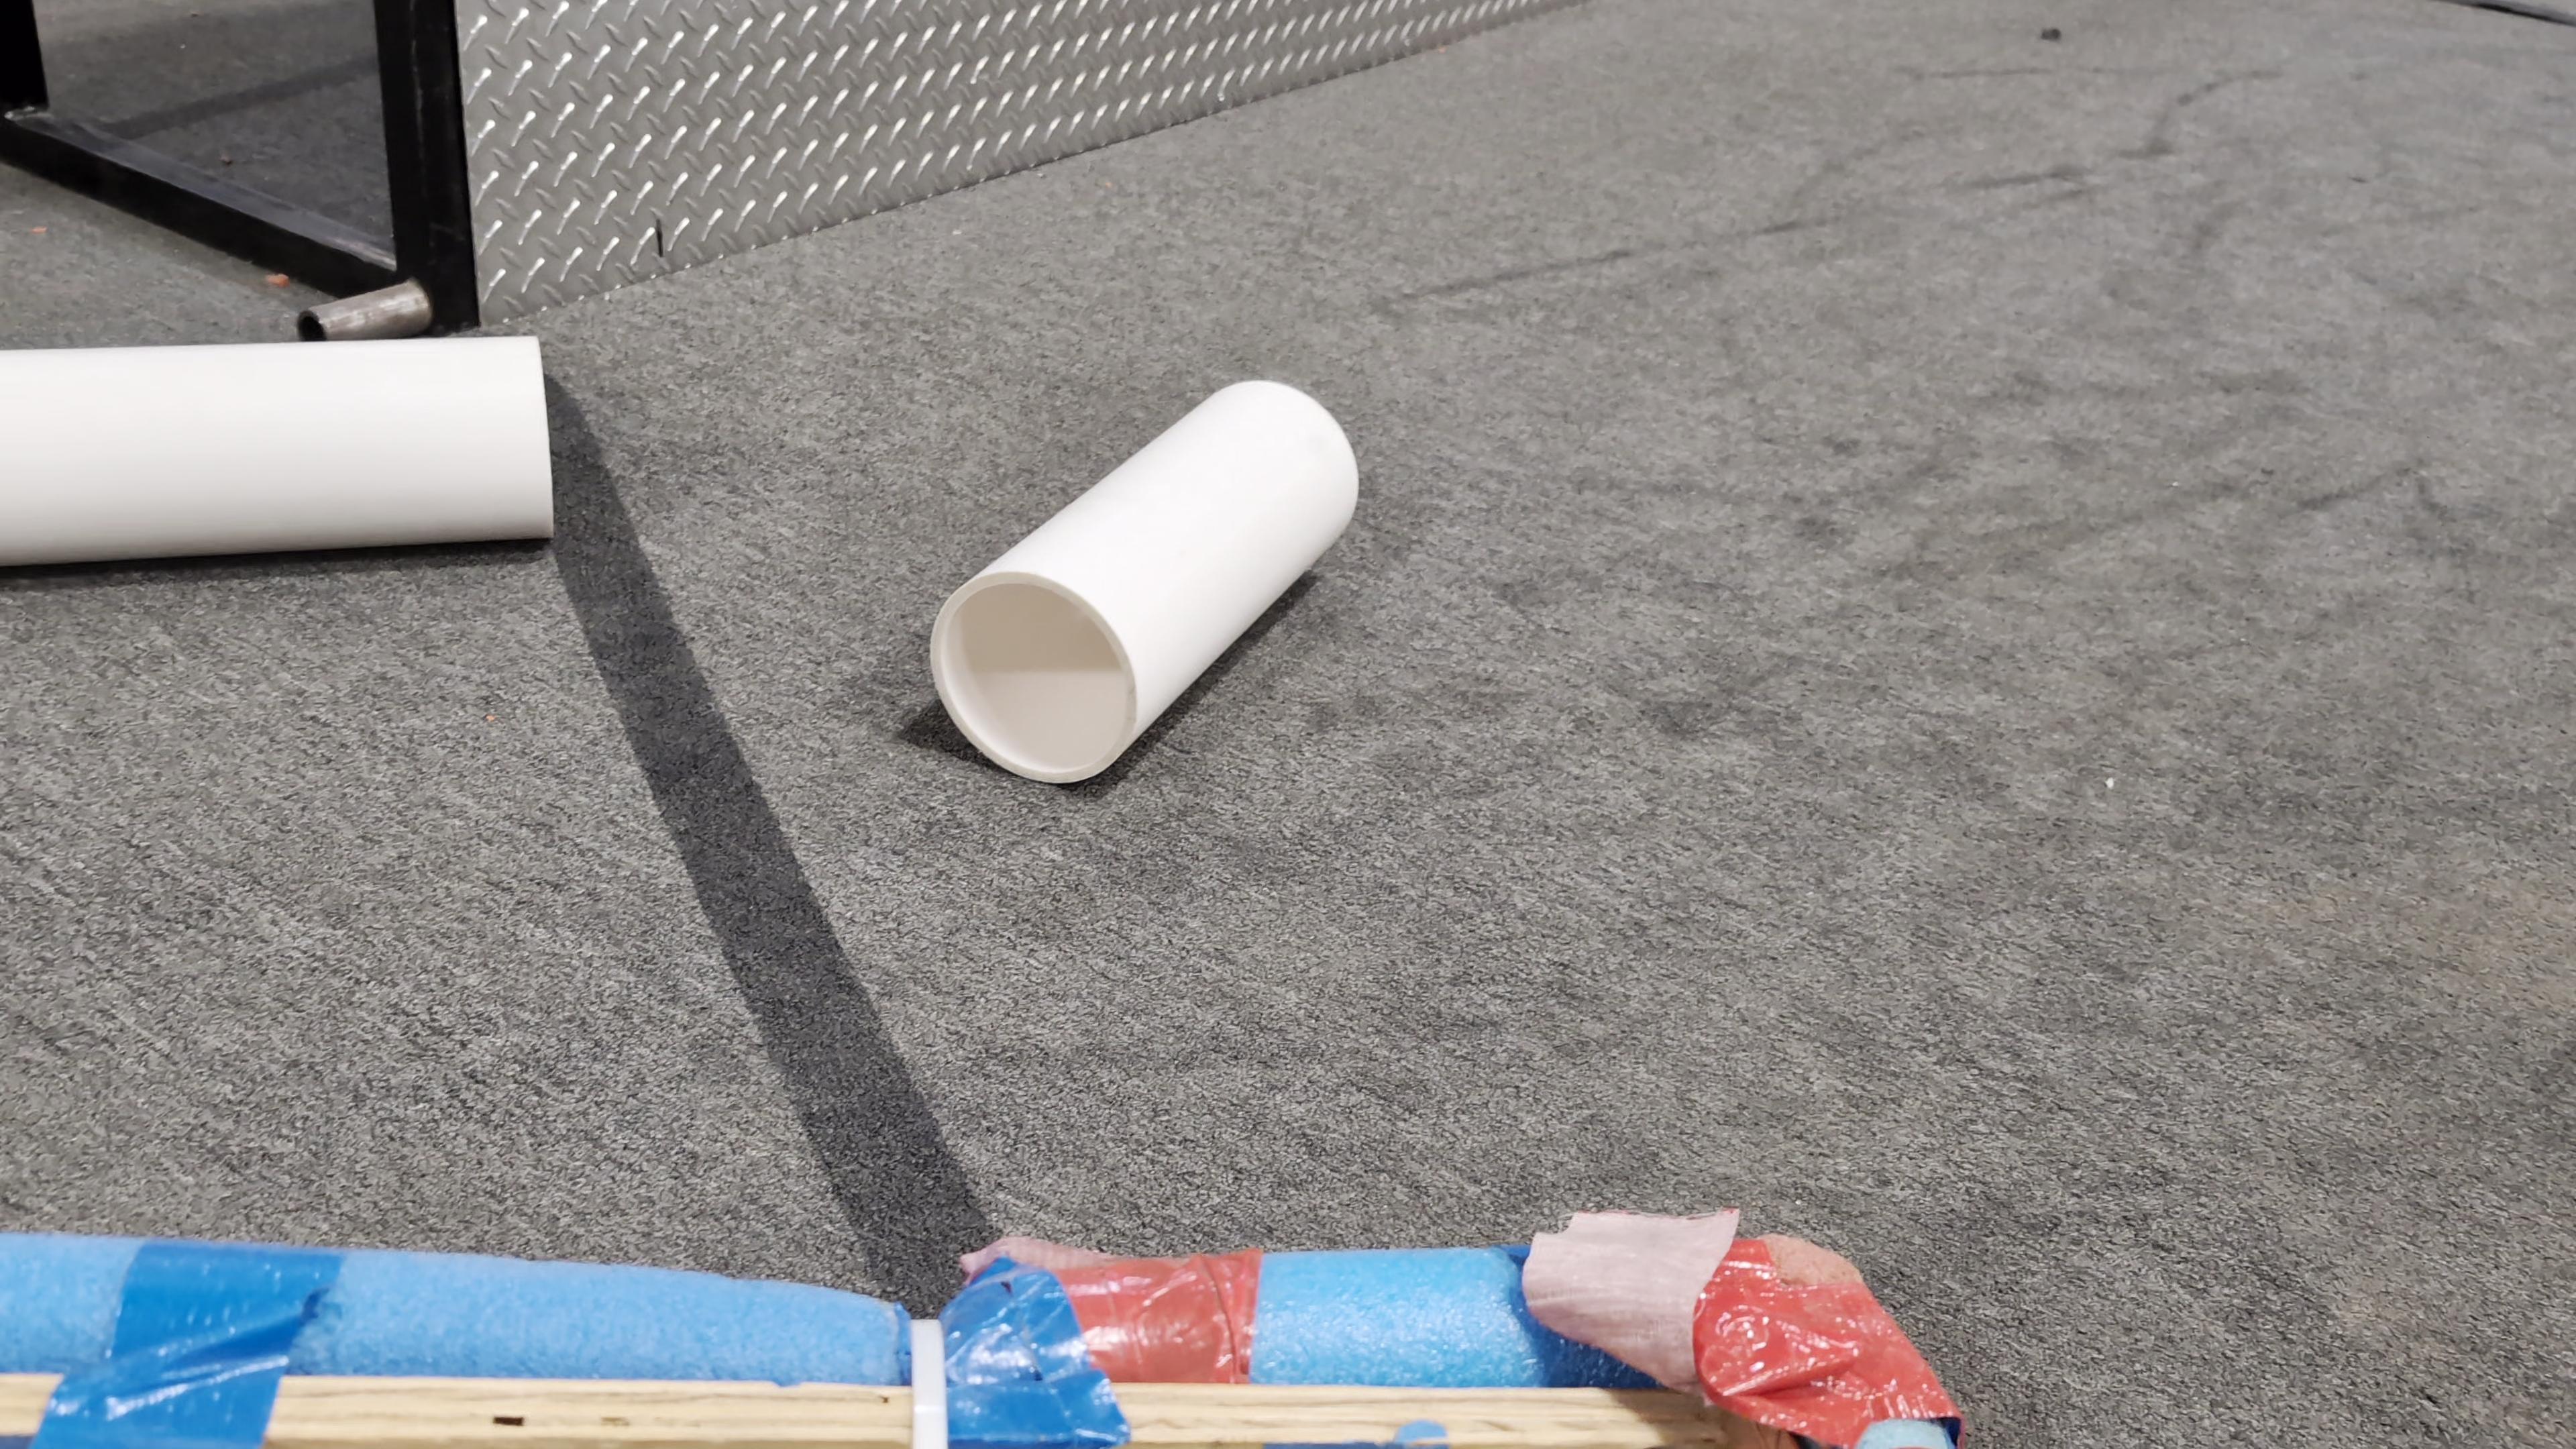coral: (926, 374, 1362, 783), (1, 327, 556, 572)
